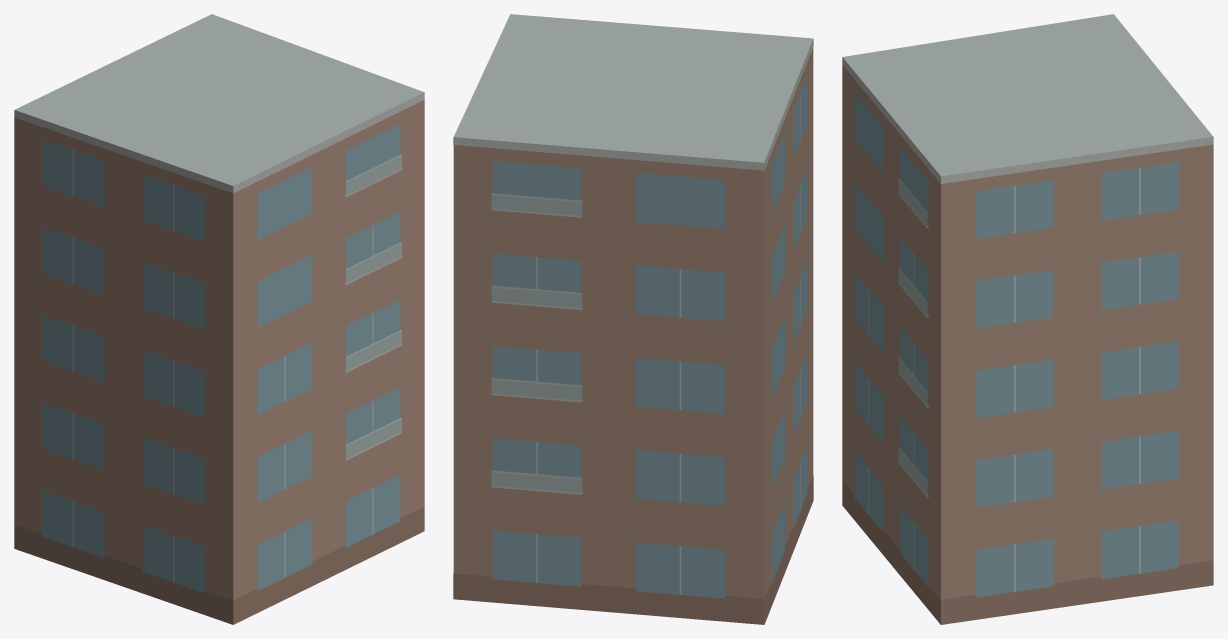
File: survey-upis-32745665.glb
3 views of the same model, side by side, from view 1: azimuth 30°, elevation 25°; view 2: azimuth 150°, elevation 25°; view 3: azimuth 270°, elevation 25° (orthographic). The views are drawn at different scales.
Parts seen in each view (by area): view 1: survey-upis-32745665.tmp; view 2: survey-upis-32745665.tmp; view 3: survey-upis-32745665.tmp.
Part boxes in pixels (left/top/right/bottom): survey-upis-32745665.tmp: left=14, top=14, right=424, bottom=624; survey-upis-32745665.tmp: left=453, top=14, right=813, bottom=624; survey-upis-32745665.tmp: left=842, top=14, right=1213, bottom=624.
Bounding box in the file's own units: 11.24 × 14.45 × 10.85.
